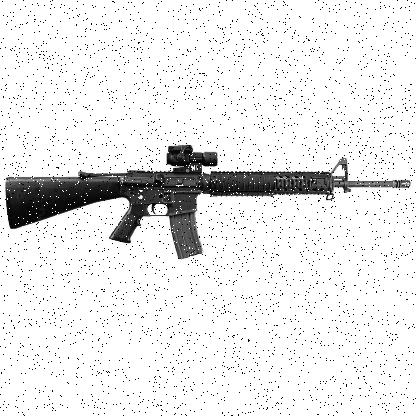gun: (6, 144, 410, 256)
